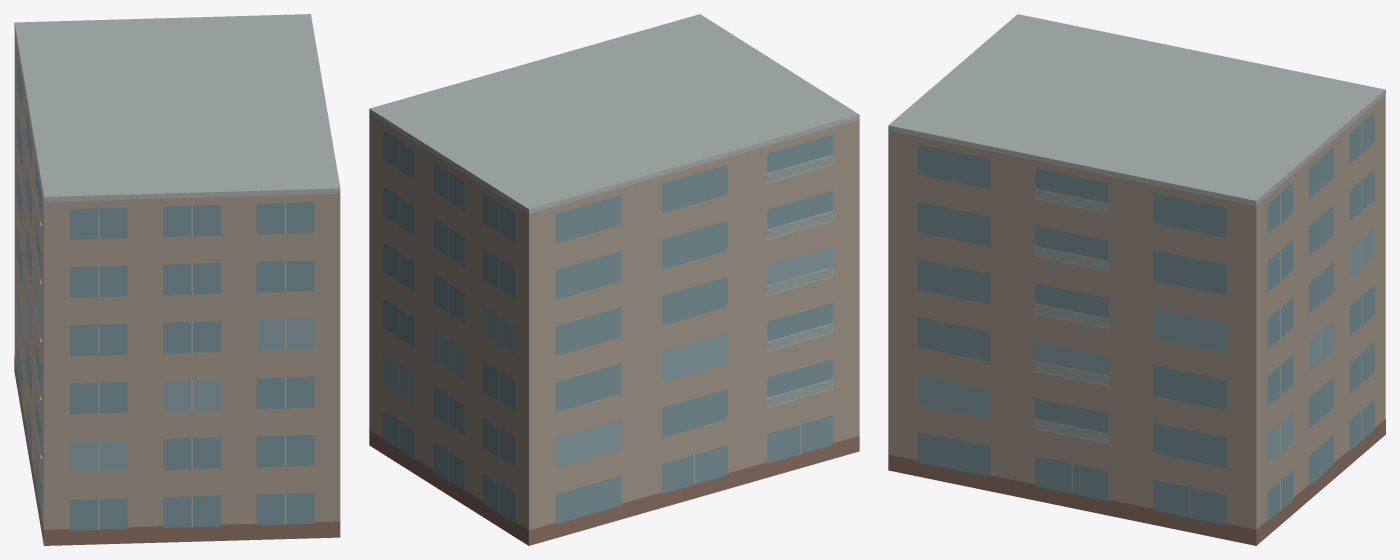
Rendered from survey-upis-32712981.glb.
3 renders of one model, left to right at view 1: azimuth 30°, elevation 25°; view 2: azimuth 150°, elevation 25°; view 3: azimuth 270°, elevation 25°, orthographic. The views are drawn at different scales.
Parts seen in each view (by area): view 1: survey-upis-32712981.tmp; view 2: survey-upis-32712981.tmp; view 3: survey-upis-32712981.tmp.
Part boxes in pixels (left/top/right/bottom): survey-upis-32712981.tmp: left=14, top=14, right=340, bottom=545; survey-upis-32712981.tmp: left=369, top=14, right=859, bottom=545; survey-upis-32712981.tmp: left=888, top=14, right=1385, bottom=545.
Bounding box in the file's own units: 19.36 × 16.65 × 21.78.
